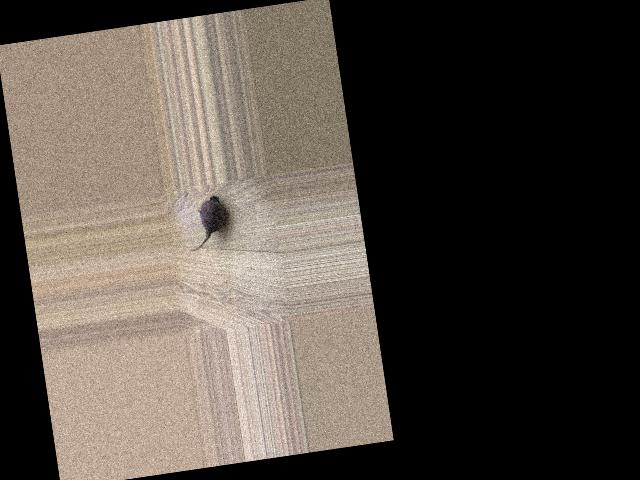beet: (183, 195, 229, 252)
